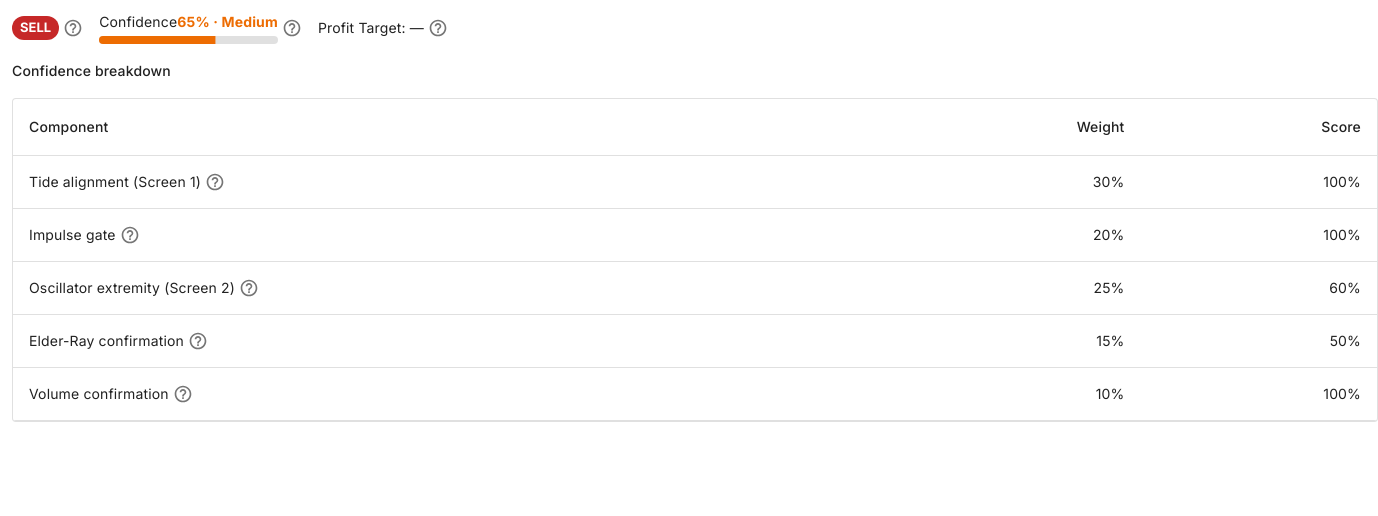
Test case: SignalSummary › clicking a SELL signal opens a balloon explaining every condition as met
The width and height of the screenshot is (1378, 516).
Click the button with aria-label "Why SELL?" at (36, 28), box [12, 16, 59, 40]
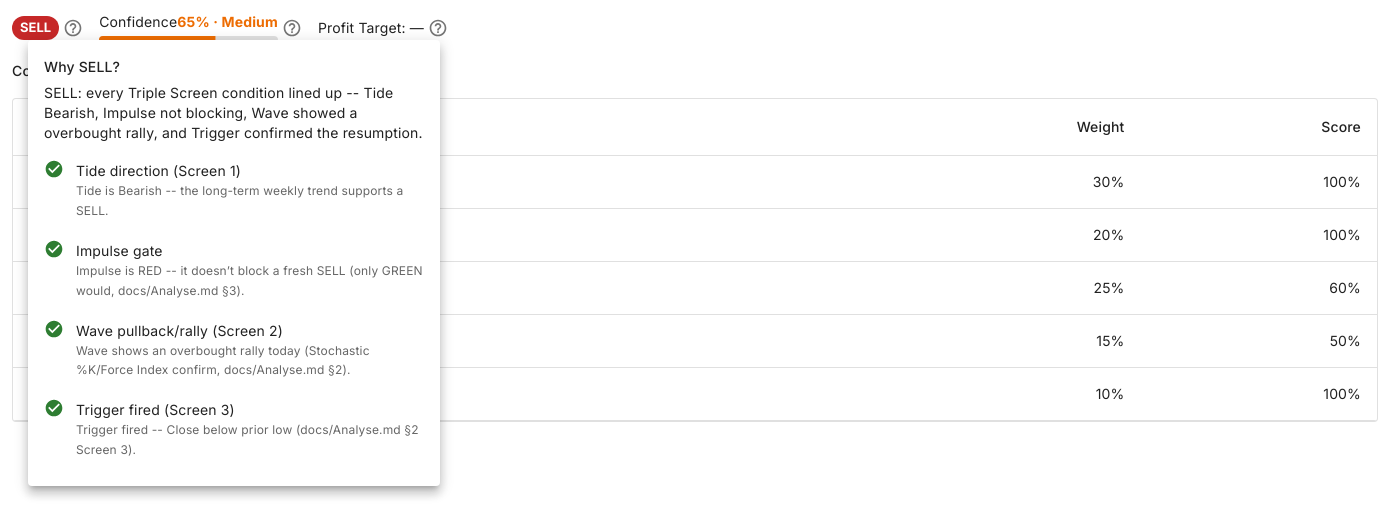
Now the text "SELL: every Triple Screen condition lined up" is shown, box [44, 84, 423, 141]
Now the text "Wave shows an overbought rally today" is shown, box [76, 343, 370, 378]
